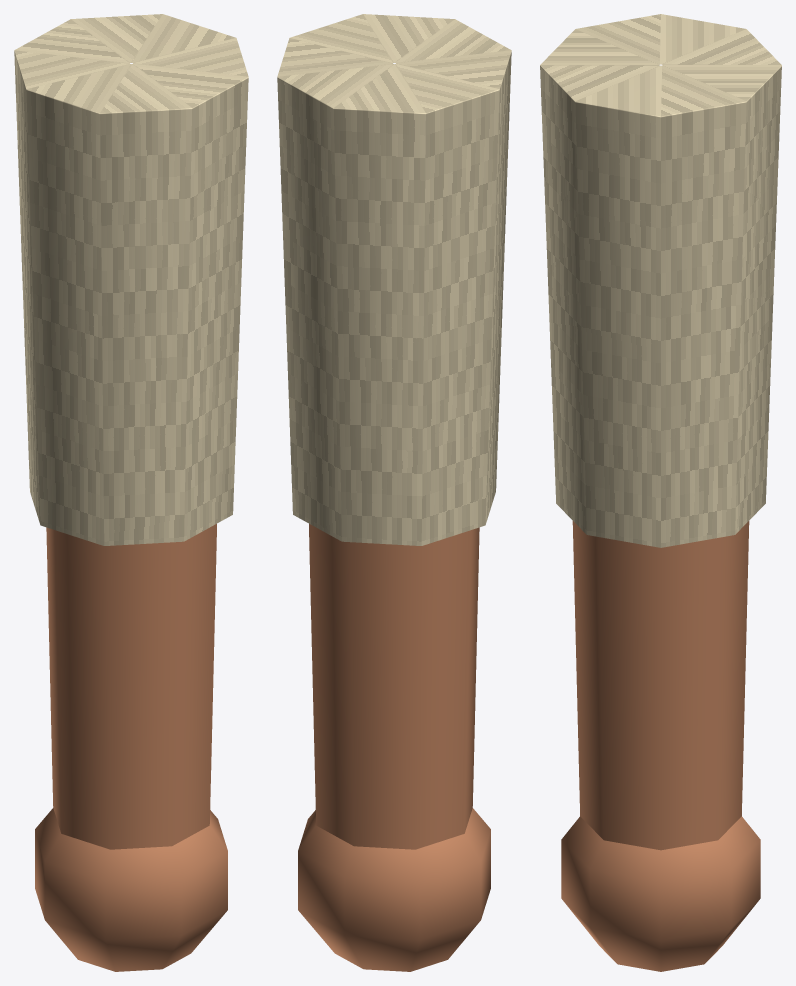
File: keeper-arm.gltf
3 views of the same model, side by side, from view 1: azimuth 30°, elevation 25°; view 2: azimuth 150°, elevation 25°; view 3: azimuth 270°, elevation 25° (orthographic).
Size of the model in its own units: 0.15 by 0.615 by 0.15.
2 materials, 1 textured.
